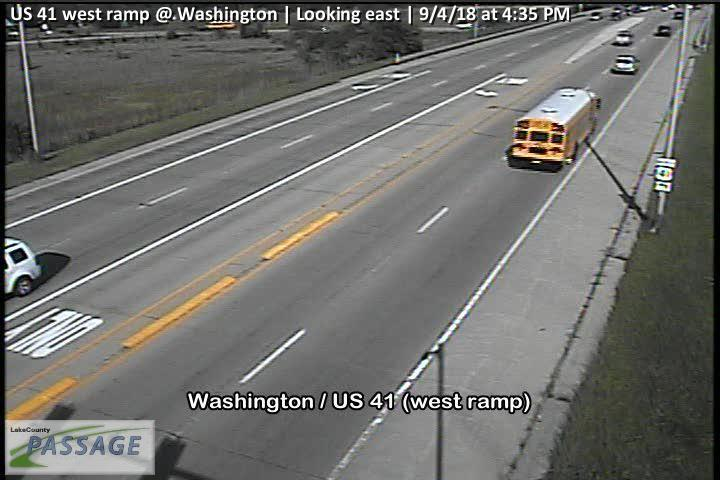Bus: (510, 85, 602, 170)
SUV: (613, 53, 641, 74), (615, 28, 633, 46)
Sedan: (656, 24, 672, 37), (607, 11, 620, 22), (672, 10, 686, 20), (588, 11, 603, 20)
